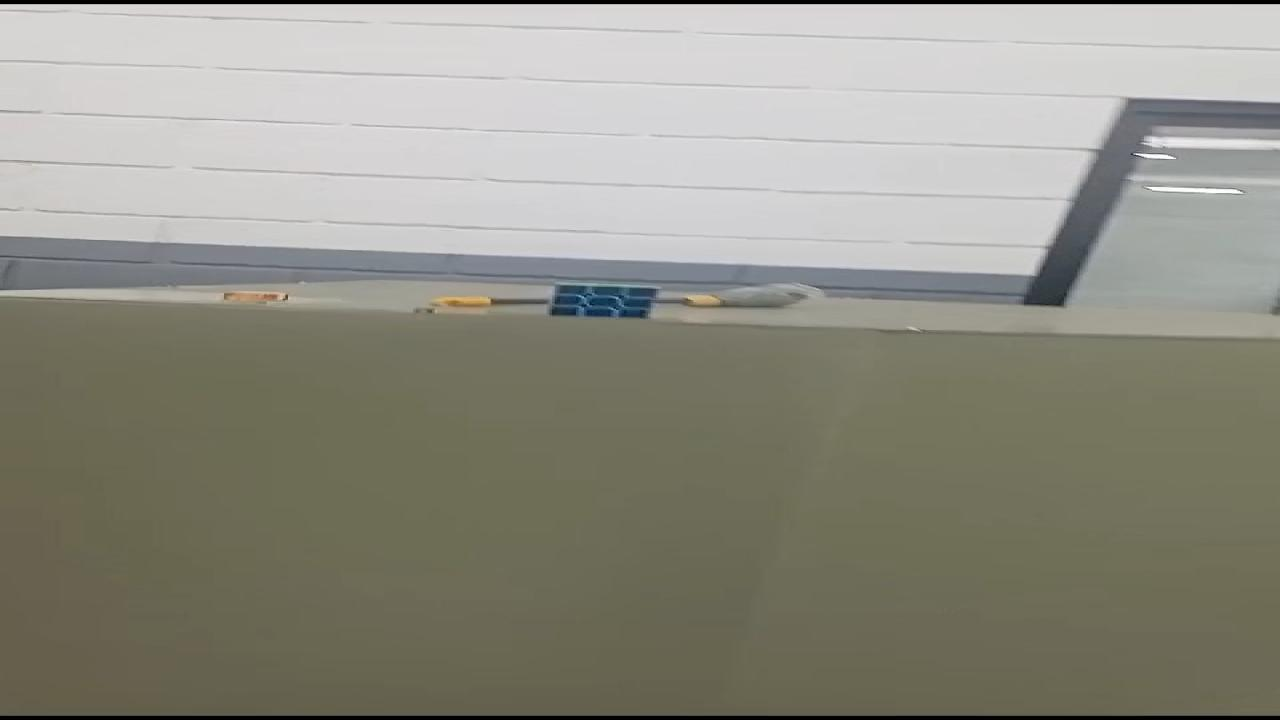Cube: (544, 281, 664, 319)
